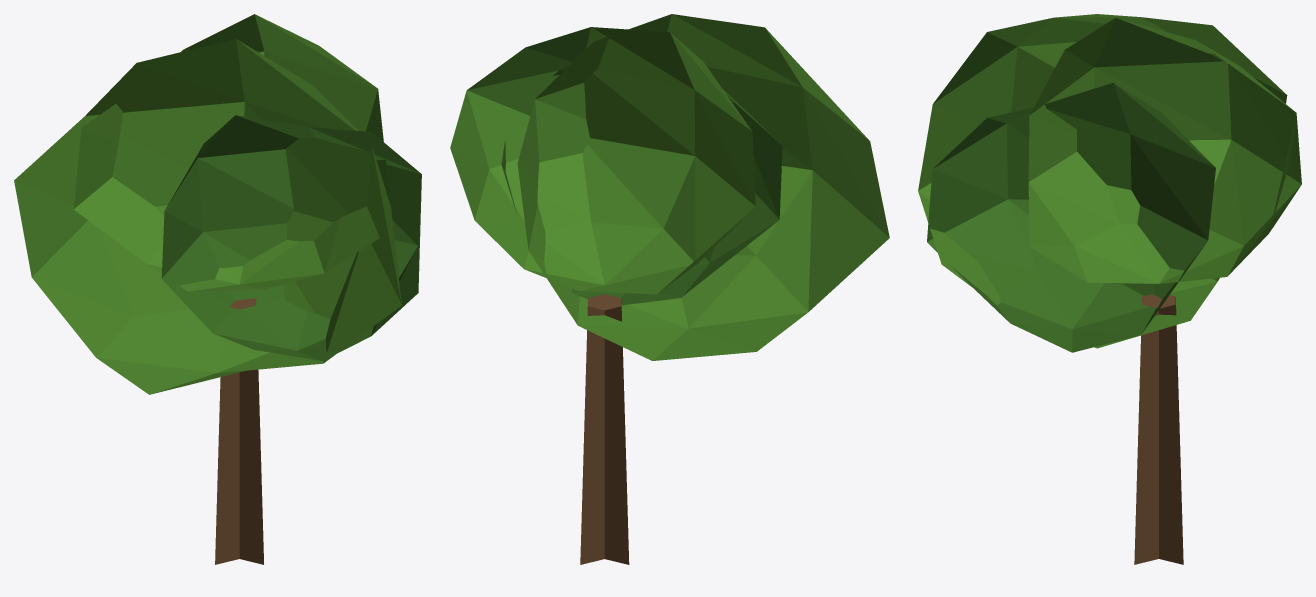
The picture shows the model from 3 angles, left to right: view 1: azimuth 30°, elevation 25°; view 2: azimuth 150°, elevation 25°; view 3: azimuth 270°, elevation 25°; orthographic projection.
Visible parts, largest first — view 1: tree-round-a; view 2: tree-round-a; view 3: tree-round-a.
Part boxes in pixels (<box>): tree-round-a: <box>14,14,421,564</box>; tree-round-a: <box>450,14,889,564</box>; tree-round-a: <box>918,14,1301,564</box>.
Bounding box in the file's own units: 3.15 × 4.54 × 2.97.
